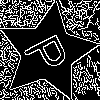P: (22, 27, 78, 78)
